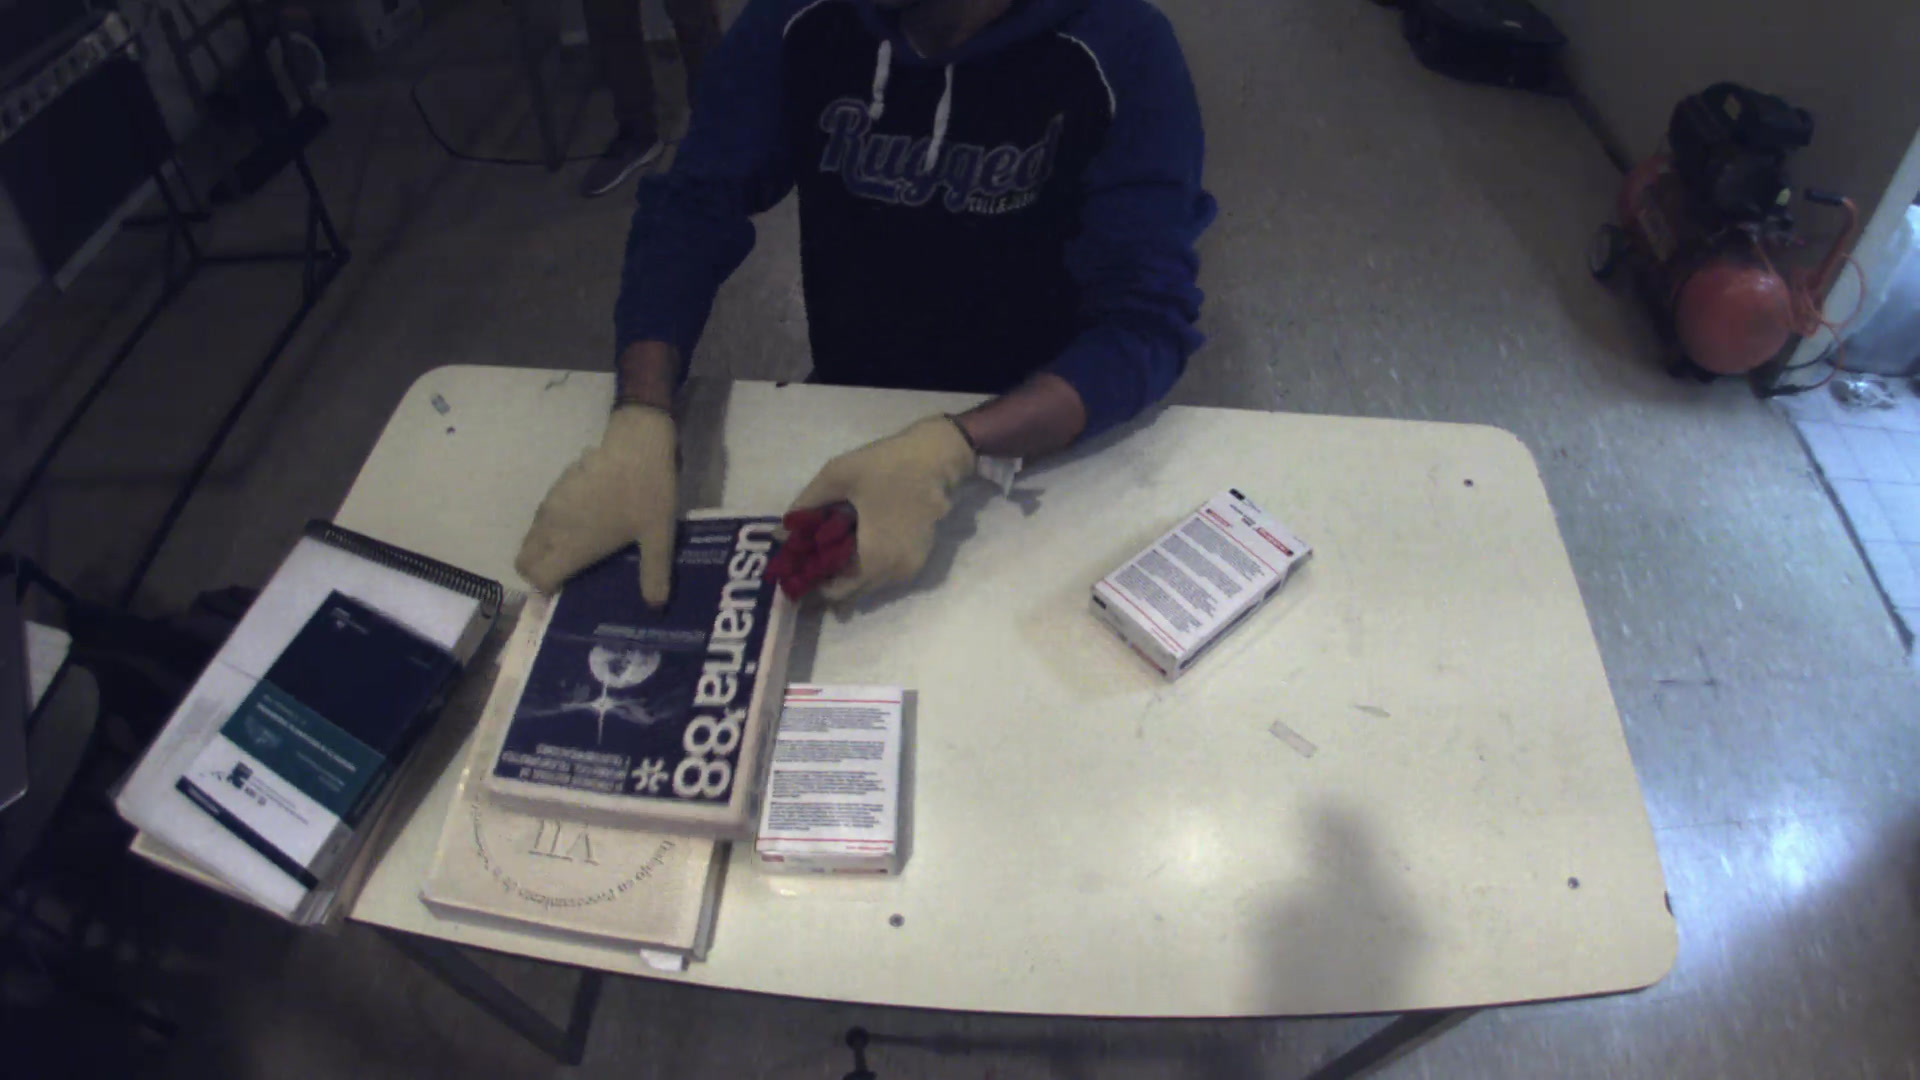hand: (504, 375, 690, 618), (764, 407, 982, 611)
